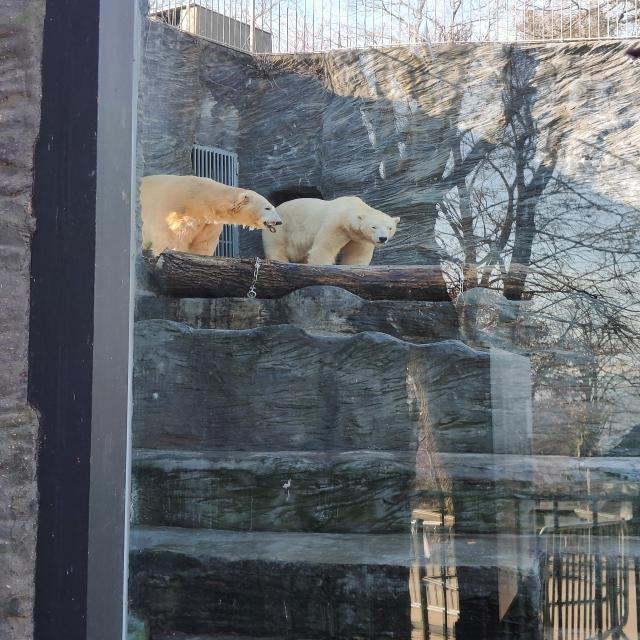bear: (140, 175, 283, 256), (262, 196, 400, 266)
